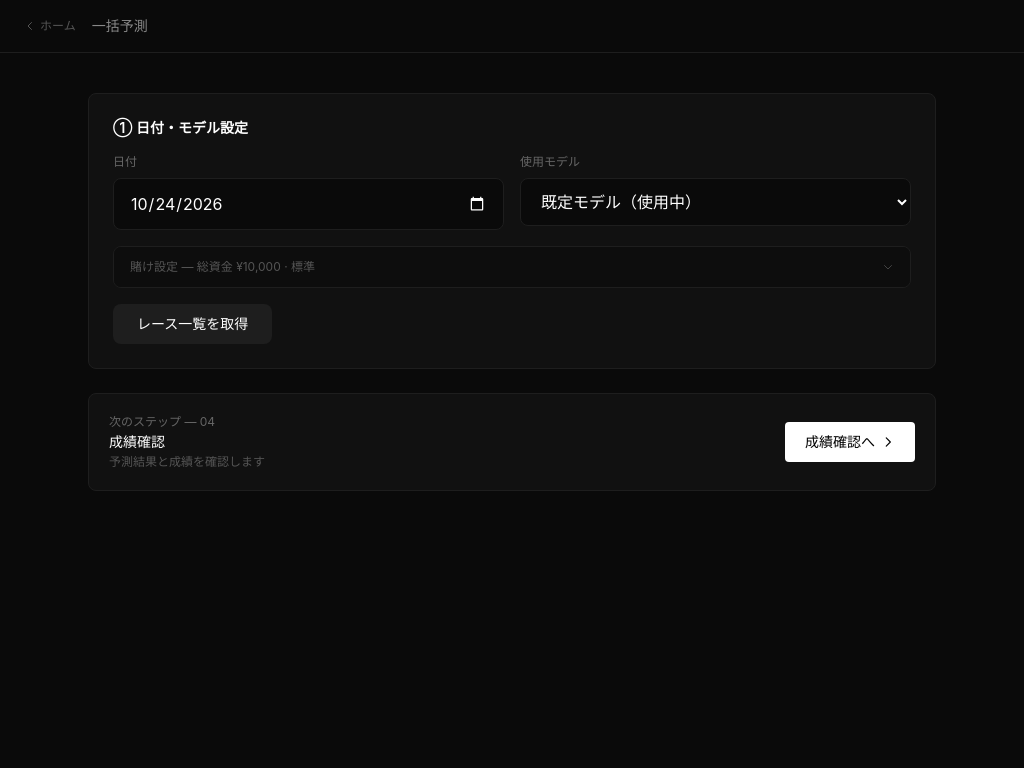
Test: prediction acquisition outcomes › clears the outcome on date change and ignores an old completion reload still in flight
The image size is (1024, 768).
Click the button "レース一覧を取得".
click(193, 324)  # box [113, 304, 272, 344]
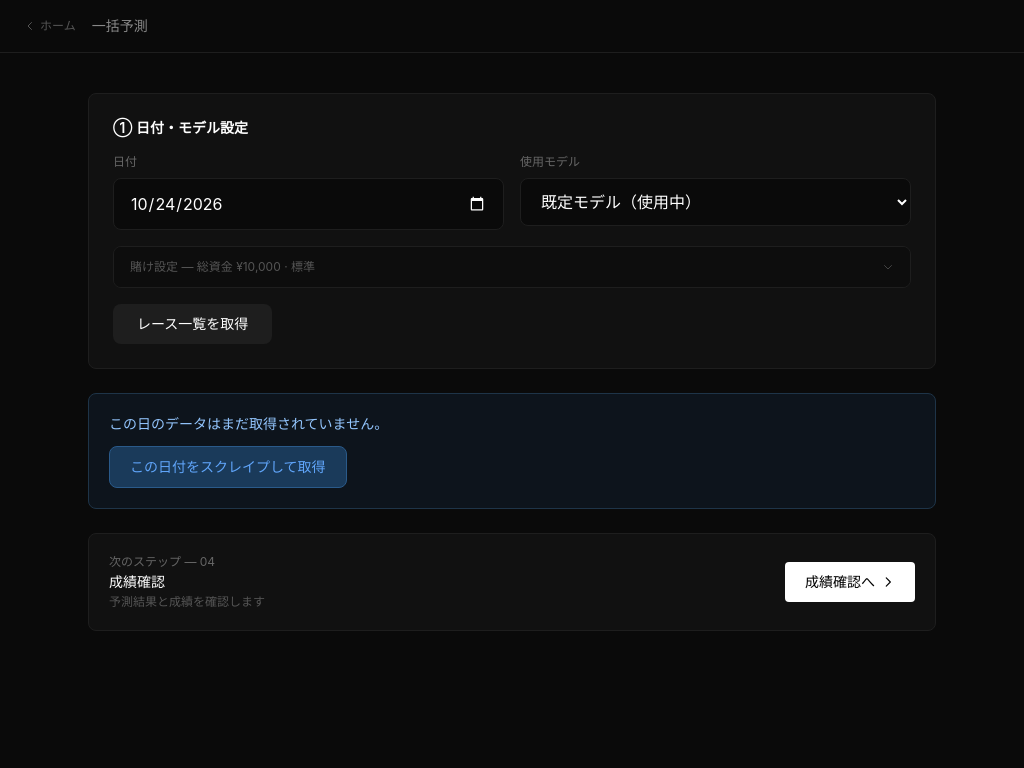
Click the button "この日付をスクレイプして取得".
click(228, 467)  # box [109, 446, 347, 488]
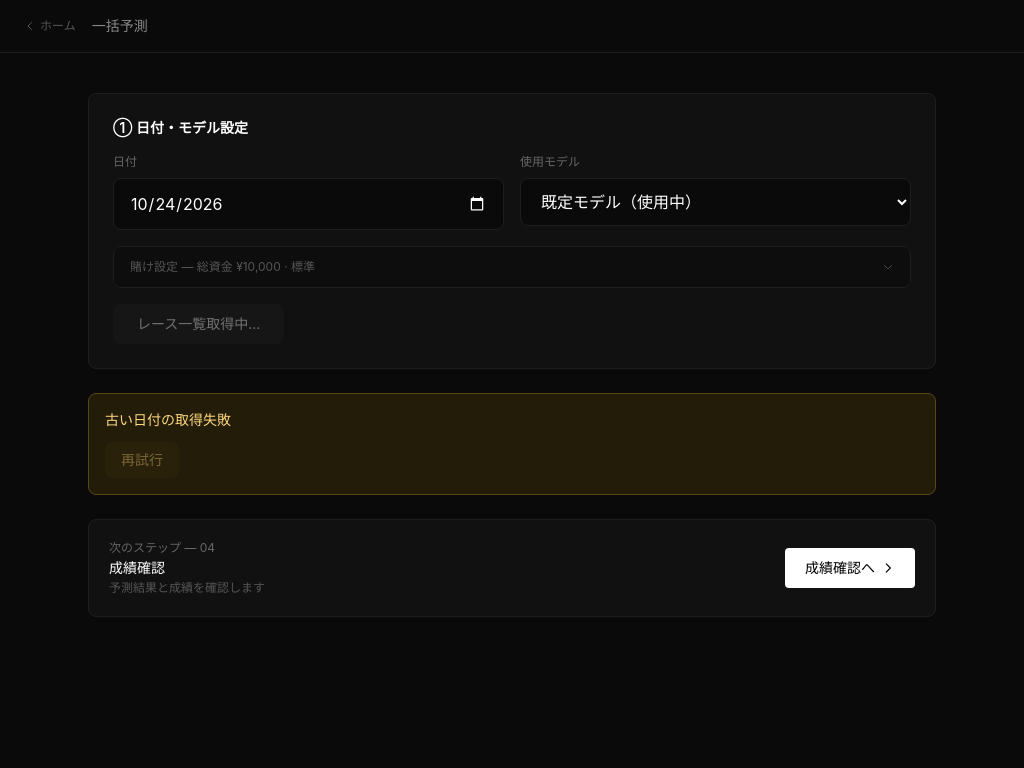
Check: the message with test id "scrape-completion-outcome" shows "古い日付の取得失敗", box [105, 411, 231, 428]
Type "2026-09-20" into the date field labelled "日付".
click(308, 204); type("2026-09-20")  # box [113, 178, 504, 230]
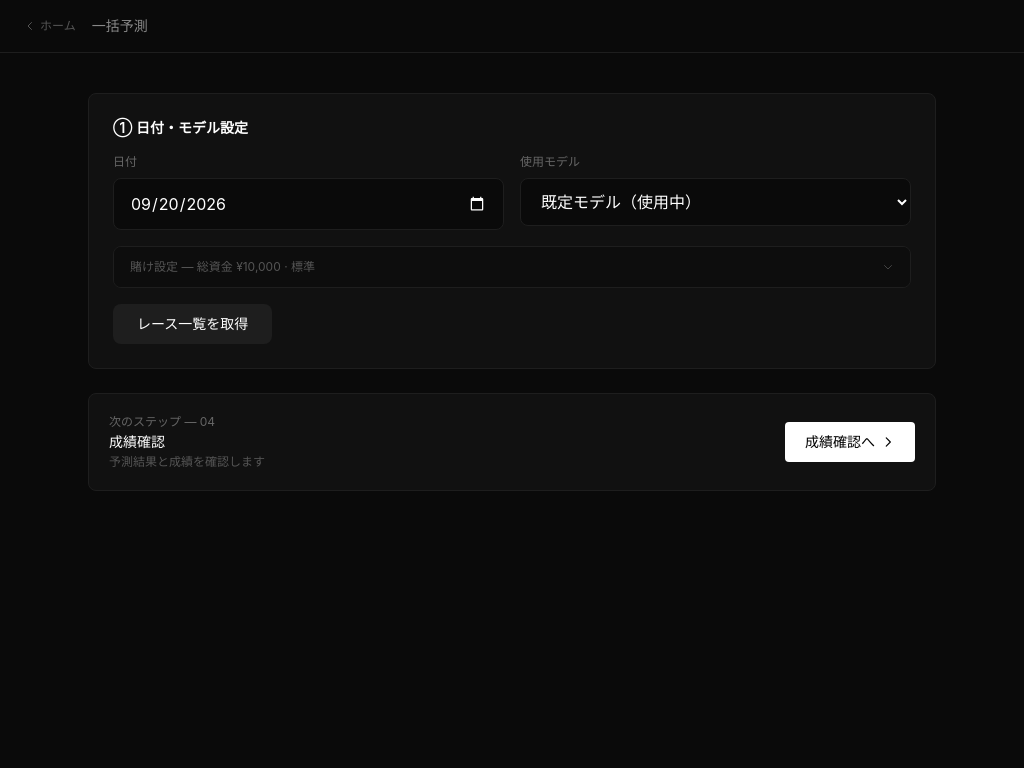
Check: the text "この日のデータはまだ取得されていません。" is not shown
Check: the message with test id "scrape-completion-outcome" is gone
